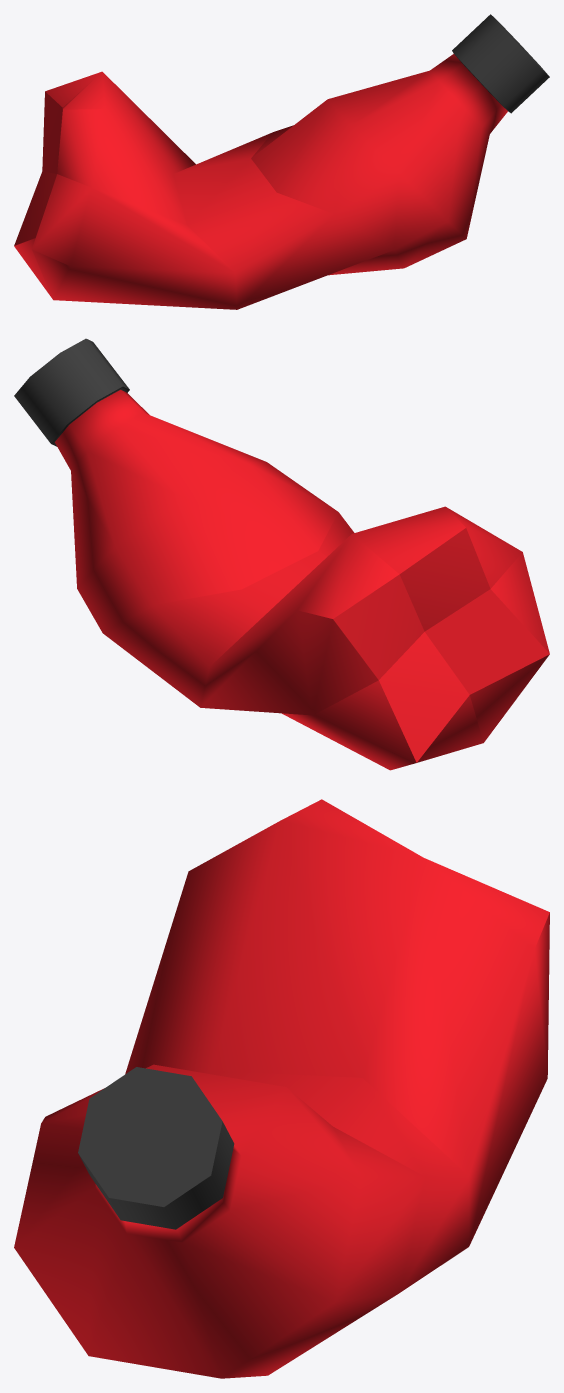
File: SW_PROP_Trash_06.fbx
3 renders of one model, top to bottom at view 1: azimuth 30°, elevation 25°; view 2: azimuth 150°, elevation 25°; view 3: azimuth 270°, elevation 25°, orthographic. The views are drawn at different scales.
Visible parts, largest first — view 1: SW_PROP_Trash_06; view 2: SW_PROP_Trash_06; view 3: SW_PROP_Trash_06.
Part boxes in pixels (bbox=[...]): SW_PROP_Trash_06: bbox=[14, 14, 549, 309]; SW_PROP_Trash_06: bbox=[14, 338, 549, 770]; SW_PROP_Trash_06: bbox=[14, 799, 549, 1378].
Size of the model in its own units: 0.2171 by 0.0942 by 0.1218.
